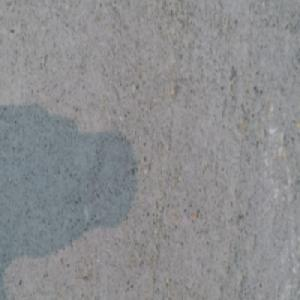Washer: (84, 286, 105, 300)
